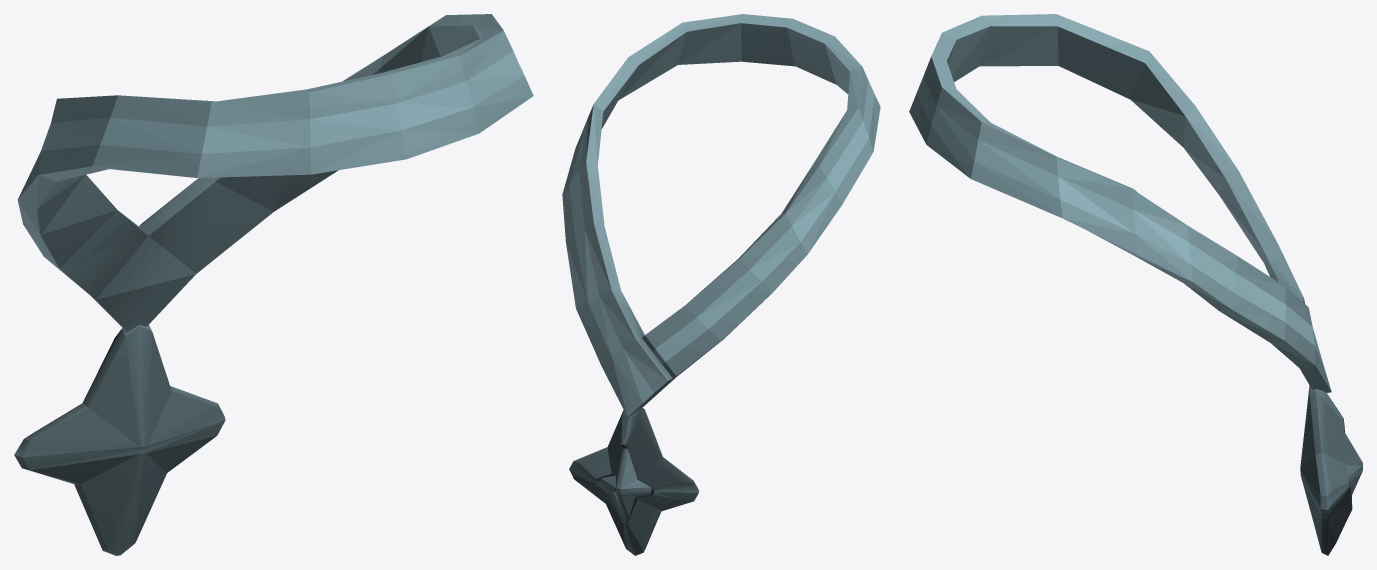
The model's file is CharSkyKid_Neck_MedalBronze.glb.
3 renders of one model, left to right at view 1: azimuth 30°, elevation 25°; view 2: azimuth 150°, elevation 25°; view 3: azimuth 270°, elevation 25°, orthographic. The views are drawn at different scales.
Visible parts, largest first — view 1: CharSkyKid_Neck_MedalBronze; view 2: CharSkyKid_Neck_MedalBronze; view 3: CharSkyKid_Neck_MedalBronze.
Boxes of the visible parts, box(x1,y1,x2,y2) form: CharSkyKid_Neck_MedalBronze: box(14, 14, 533, 555); CharSkyKid_Neck_MedalBronze: box(562, 14, 880, 555); CharSkyKid_Neck_MedalBronze: box(909, 14, 1362, 555).
Size of the model in its own units: 2.09 by 3.1 by 2.53.
1 material, 1 textured.
